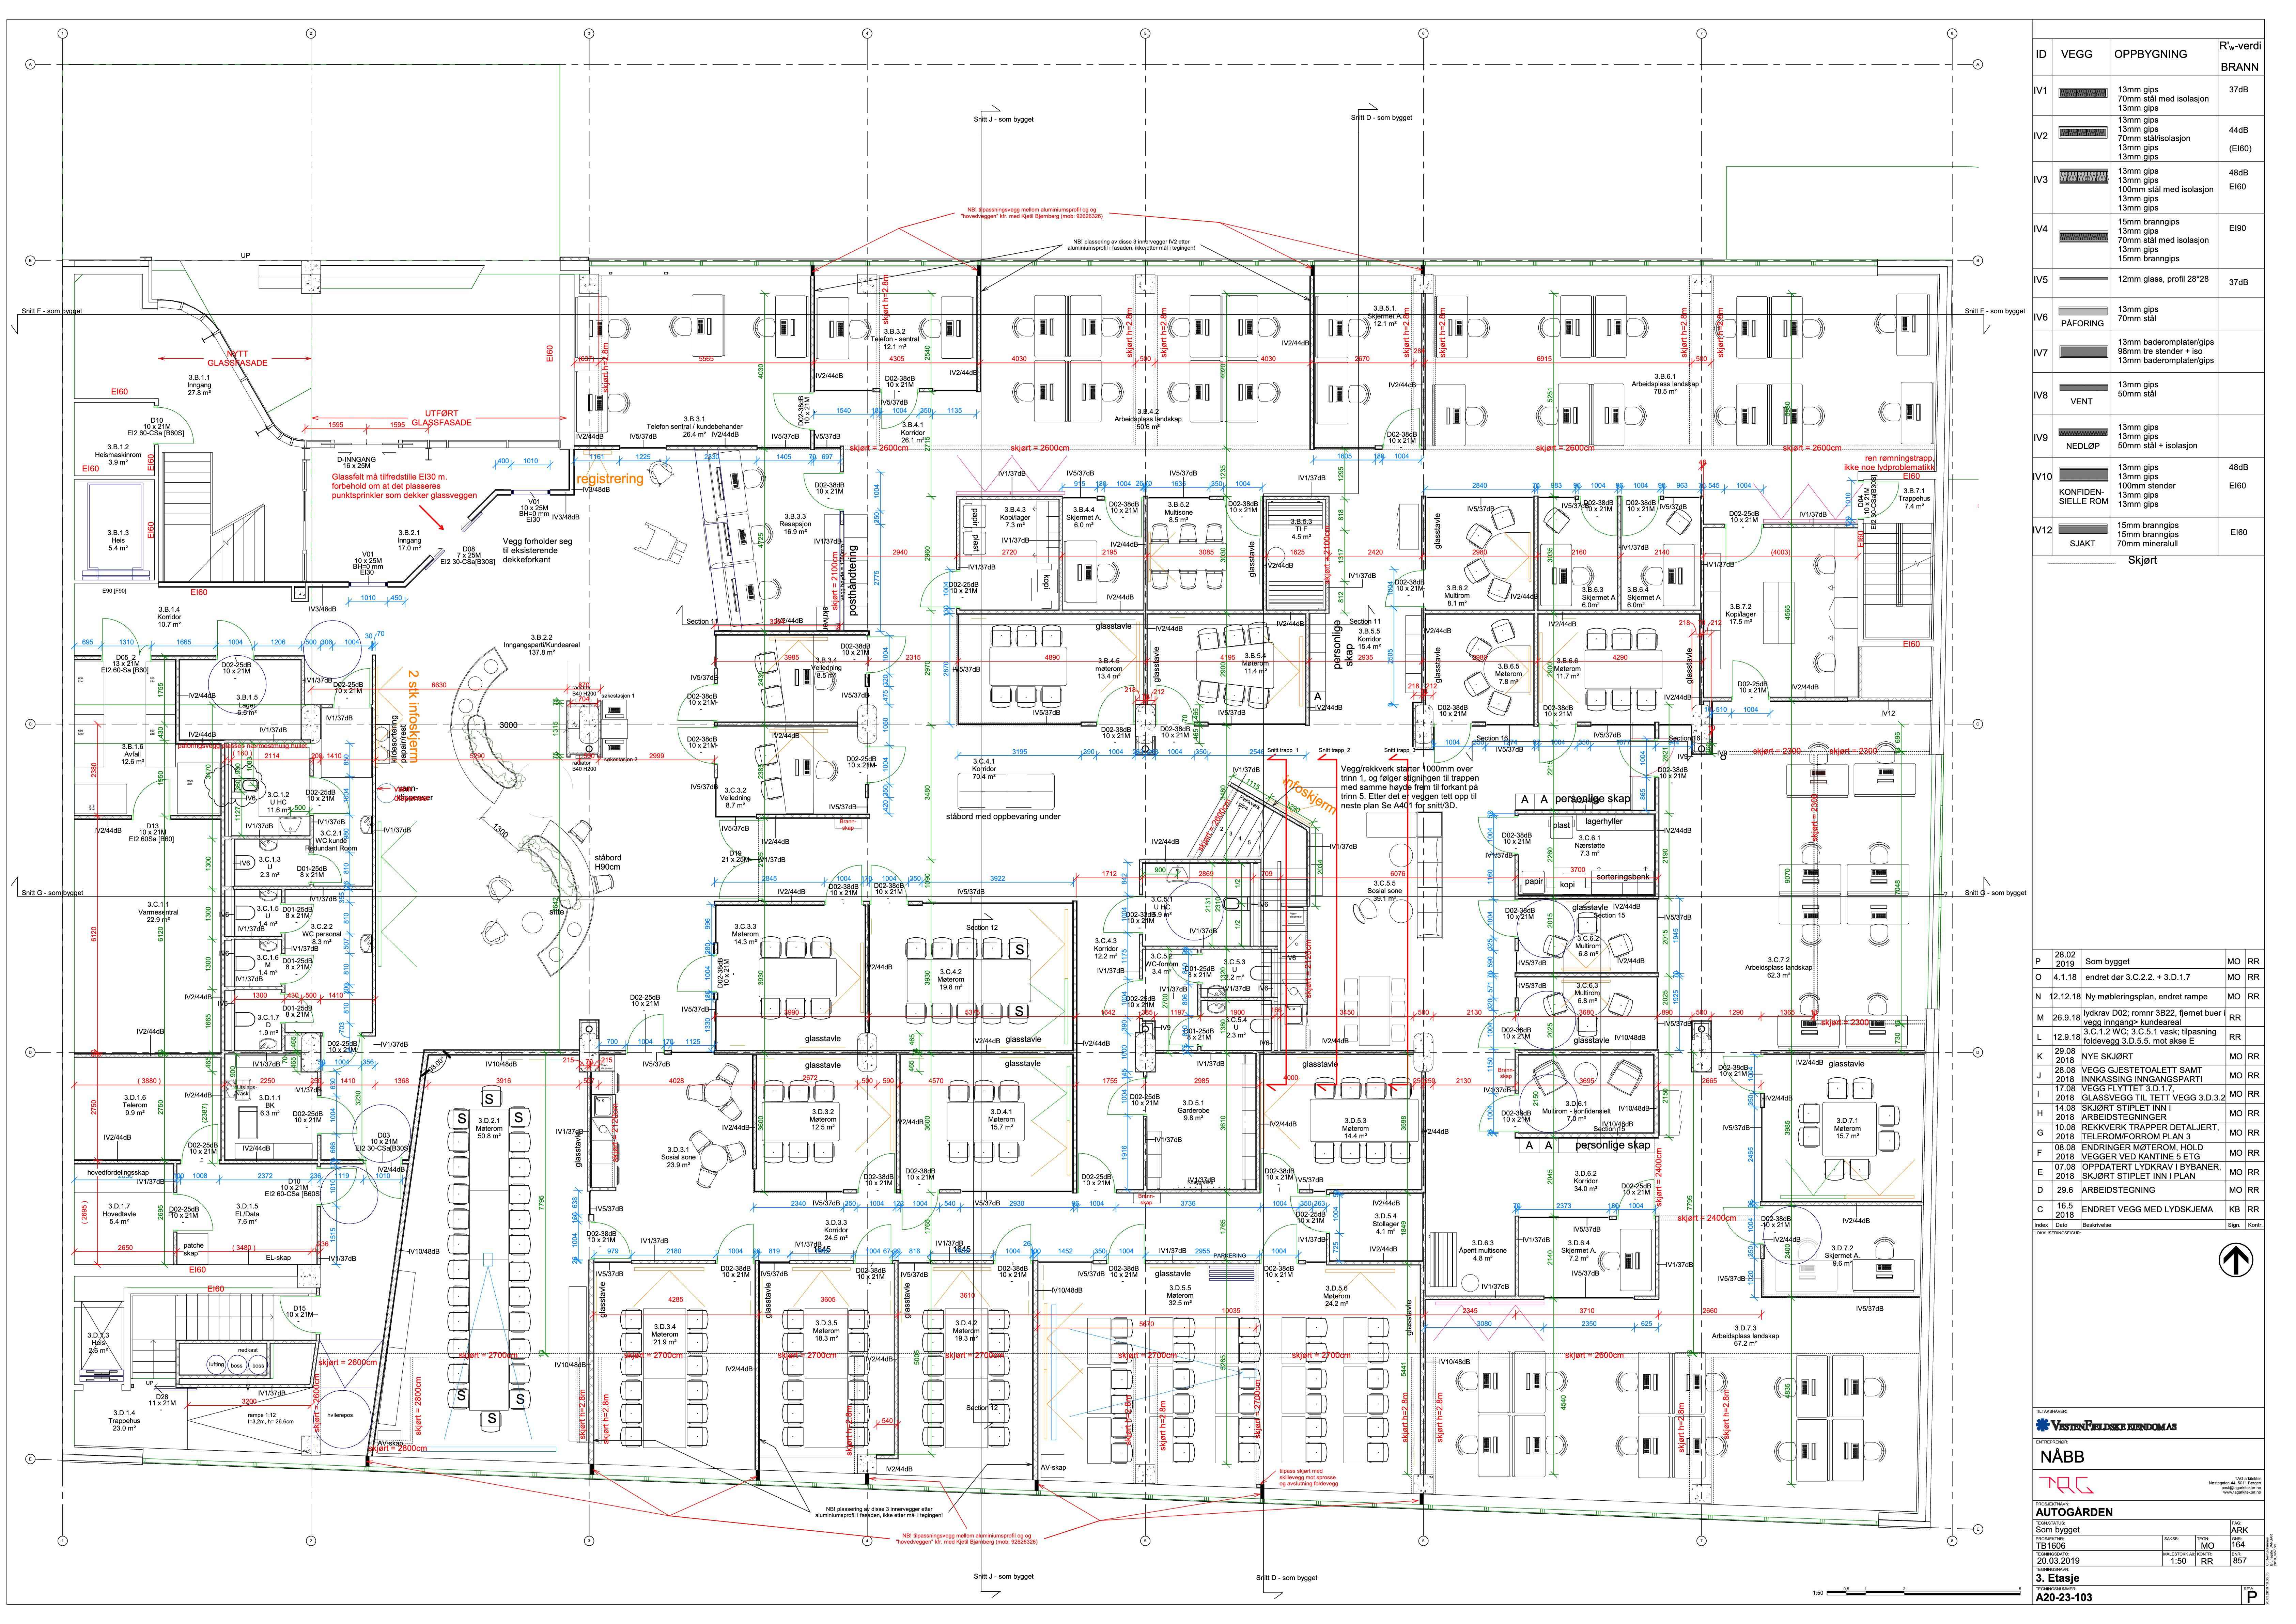room: (375, 1052, 591, 1471), (1036, 1261, 1422, 1494), (572, 260, 812, 447), (590, 1261, 757, 1481), (590, 1051, 755, 1262), (897, 1263, 1035, 1489), (867, 903, 1075, 1052), (757, 1262, 897, 1485), (1702, 525, 1860, 700), (222, 888, 375, 1053), (898, 1053, 1076, 1191), (1761, 1054, 1924, 1203), (75, 658, 223, 817), (1258, 1052, 1423, 1191), (715, 903, 867, 1052), (812, 262, 979, 391), (958, 612, 1146, 725), (1312, 263, 1423, 448), (754, 1052, 899, 1191), (1535, 611, 1701, 723), (1146, 612, 1307, 725), (1145, 1051, 1258, 1192), (75, 1056, 223, 1161), (1760, 1206, 1923, 1298), (175, 1161, 319, 1264), (715, 724, 868, 816), (1144, 497, 1265, 611), (715, 633, 868, 724), (1140, 948, 1272, 1050), (1423, 496, 1536, 612), (1423, 611, 1536, 724), (1517, 812, 1657, 898), (958, 498, 1061, 612), (1516, 1215, 1658, 1298), (1516, 1053, 1656, 1136), (1516, 975, 1657, 1053), (1516, 897, 1657, 974), (177, 658, 306, 741), (223, 1052, 321, 1161), (74, 1164, 175, 1264), (1141, 861, 1259, 947), (1536, 497, 1619, 612), (1062, 497, 1145, 611), (1622, 496, 1702, 613), (225, 743, 311, 836), (72, 400, 157, 477), (222, 837, 312, 888), (1198, 997, 1273, 1051), (222, 988, 283, 1051), (1198, 948, 1273, 998), (221, 937, 284, 988), (222, 888, 283, 938)
